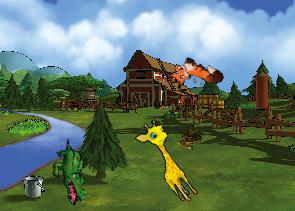crocodile: (40, 138, 102, 207)
fox: (164, 50, 225, 103)
giraffe: (131, 115, 208, 206)
